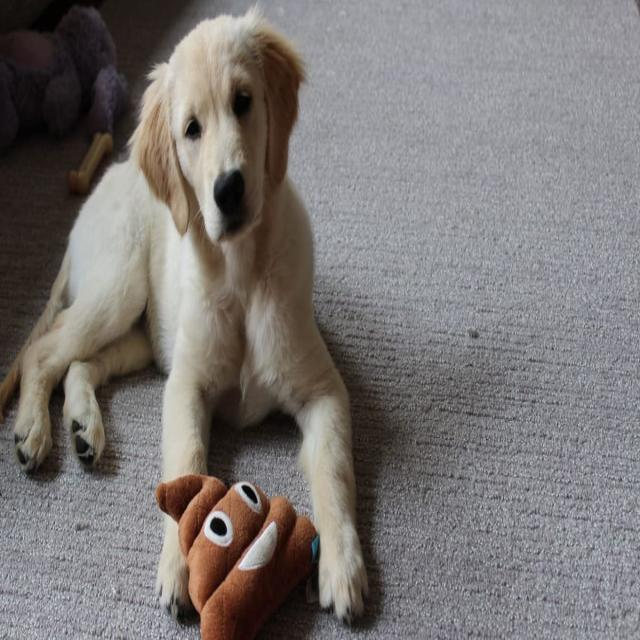Dog: (3, 10, 364, 475)
